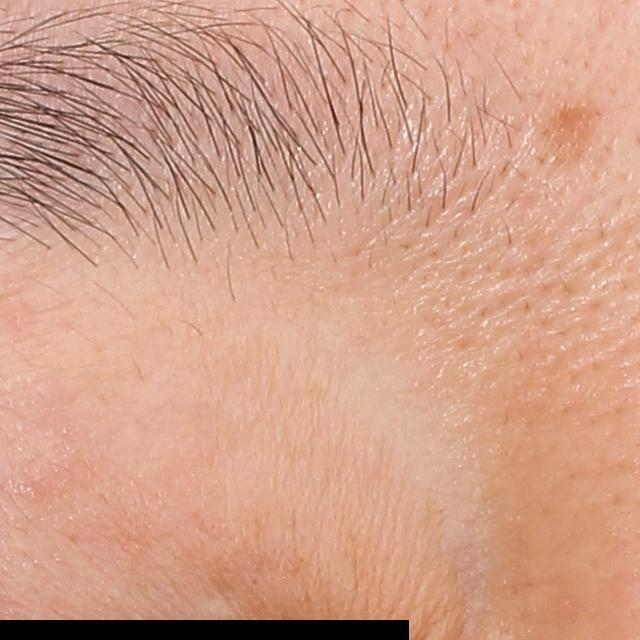melasma: (527, 99, 599, 176)
